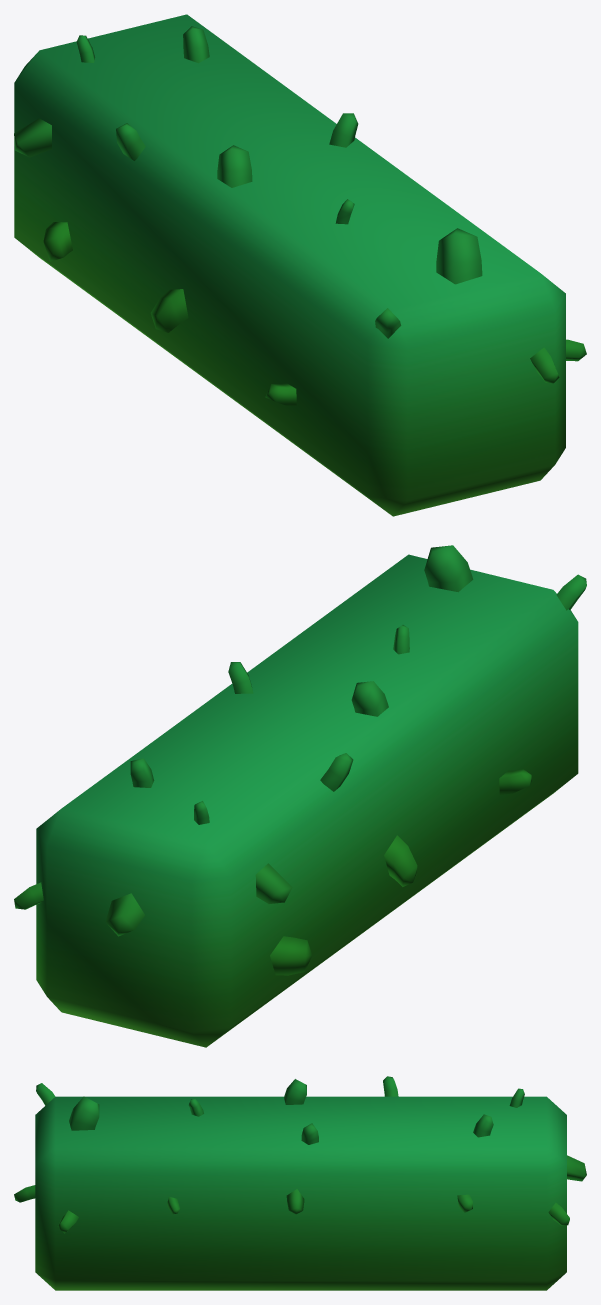
File: Bush_1_A_1.glb
The picture shows the model from 3 angles, top to bottom: view 1: azimuth 30°, elevation 25°; view 2: azimuth 150°, elevation 25°; view 3: azimuth 270°, elevation 25°; orthographic projection. The views are drawn at different scales.
Parts seen in each view (by area): view 1: Bush_1_A_1; view 2: Bush_1_A_1; view 3: Bush_1_A_1.
Part boxes in pixels (<box>): Bush_1_A_1: <box>14,14,586,516</box>; Bush_1_A_1: <box>14,545,586,1047</box>; Bush_1_A_1: <box>14,1076,586,1290</box>.
Bounding box in the file's own units: 0.7936 × 0.7397 × 2.23.
Materials: 1 (1 with a texture image).
